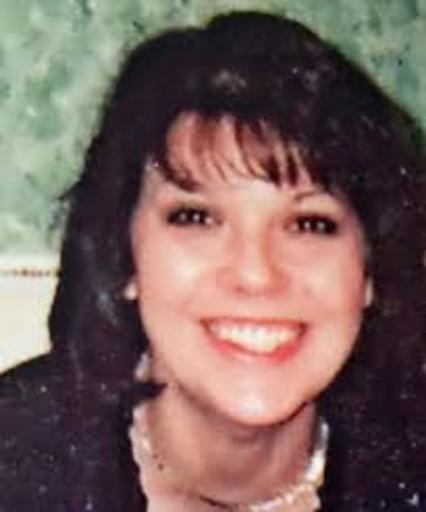left_eye: (285, 211, 342, 242)
left_lip_corner: (298, 315, 321, 338)
right_eye: (165, 206, 227, 235)
right_lip_corner: (192, 309, 219, 333)
